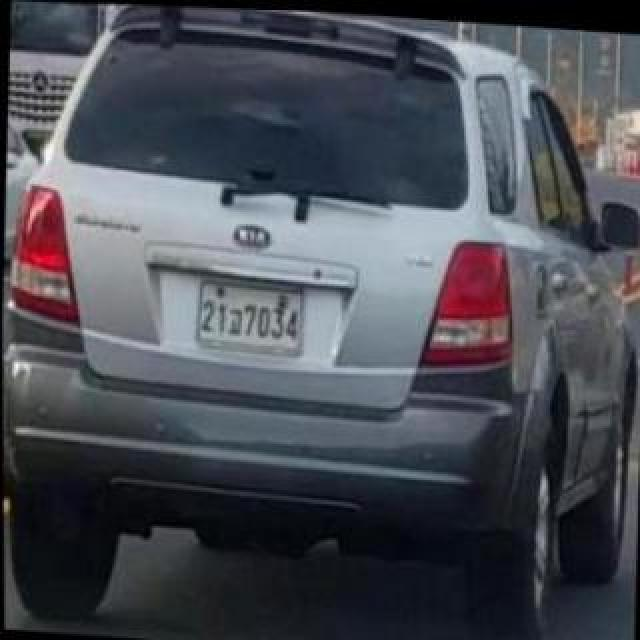car: (6, 3, 638, 626)
